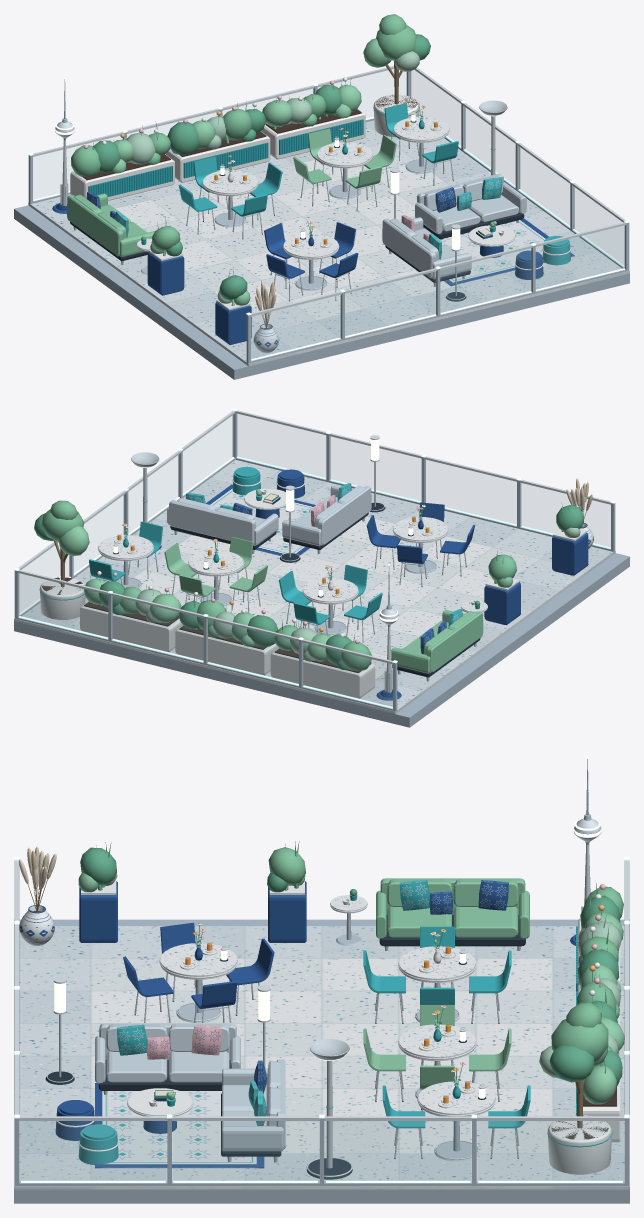
Rendered from tehran_cafe_terrace_v2.glb.
3 views of the same model, one above another, from view 1: azimuth 30°, elevation 25°; view 2: azimuth 150°, elevation 25°; view 3: azimuth 270°, elevation 25° (orthographic). The views are drawn at different scales.
Parts seen in each view (by area): view 1: terrace_shell_L1, terrace_planter1_L1, terrace_planter3_L1, terrace_planter2_L1, terrace_loungeSofaB_L3, terrace_cornerTree_L3, terrace_wallBench_L2, terrace_loungeSofaA_L3, terrace_rug_L3, terrace_doorPlanterA_L2, terrace_doorPlanterB_L2, terrace_bistroC_L2 (+23 smaller); view 2: terrace_shell_L1, terrace_planter1_L1, terrace_planter2_L1, terrace_planter3_L1, terrace_cornerTree_L3, terrace_loungeSofaB_L3, terrace_wallBench_L2, terrace_loungeSofaA_L3, terrace_doorPlanterB_L2, terrace_doorPlanterA_L2, terrace_rug_L3, terrace_bistroA_L1 (+23 smaller); view 3: terrace_shell_L1, terrace_wallBench_L2, terrace_loungeSofaA_L3, terrace_cornerTree_L3, terrace_rug_L3, terrace_loungeSofaB_L3, terrace_doorPlanterA_L2, terrace_doorPlanterB_L2, terrace_bistroD_L4, terrace_bistroC_L2, terrace_planter3_L1, terrace_planter1_L1 (+25 smaller).
Part boxes in pixels (x1,y1,x2,y2): terrace_shell_L1: (14,65,629,379); terrace_planter1_L1: (70,132,174,200); terrace_planter3_L1: (261,84,365,159); terrace_planter2_L1: (165,108,270,182); terrace_loungeSofaB_L3: (415,173,526,240); terrace_cornerTree_L3: (363,14,430,137); terrace_wallBench_L2: (67,191,154,265); terrace_loungeSofaA_L3: (382,215,471,286); terrace_rug_L3: (430,218,574,286); terrace_doorPlanterA_L2: (147,216,184,295); terrace_doorPlanterB_L2: (215,267,251,344); terrace_bistroC_L2: (283,233,339,290); terrace_shell_L1: (14,408,629,727); terrace_planter1_L1: (270,625,375,698); terrace_planter2_L1: (175,600,278,675); terrace_planter3_L1: (80,578,182,652); terrace_cornerTree_L3: (34,500,89,619); terrace_loungeSofaB_L3: (167,493,278,553); terrace_wallBench_L2: (391,609,483,681); terrace_loungeSofaA_L3: (282,483,371,553); terrace_doorPlanterB_L2: (552,502,588,575); terrace_doorPlanterA_L2: (484,550,520,625); terrace_rug_L3: (206,484,315,555); terrace_bistroA_L1: (302,578,358,635); terrace_shell_L1: (14,856,629,1203); terrace_wallBench_L2: (376,878,529,950); terrace_loungeSofaA_L3: (95,1023,240,1094); terrace_cornerTree_L3: (539,1002,612,1174); terrace_rug_L3: (95,1083,264,1168); terrace_loungeSofaB_L3: (221,1059,285,1162); terrace_doorPlanterA_L2: (267,841,306,942); terrace_doorPlanterB_L2: (78,842,117,942); terrace_bistroD_L4: (417,1080,495,1161); terrace_bistroC_L2: (159,942,237,1022); terrace_planter3_L1: (576,1017,624,1142); terrace_planter1_L1: (576,886,623,991).
Bounding box in the file's own units: 8.3 × 2.89 × 8.
67 materials, 13 textured.
